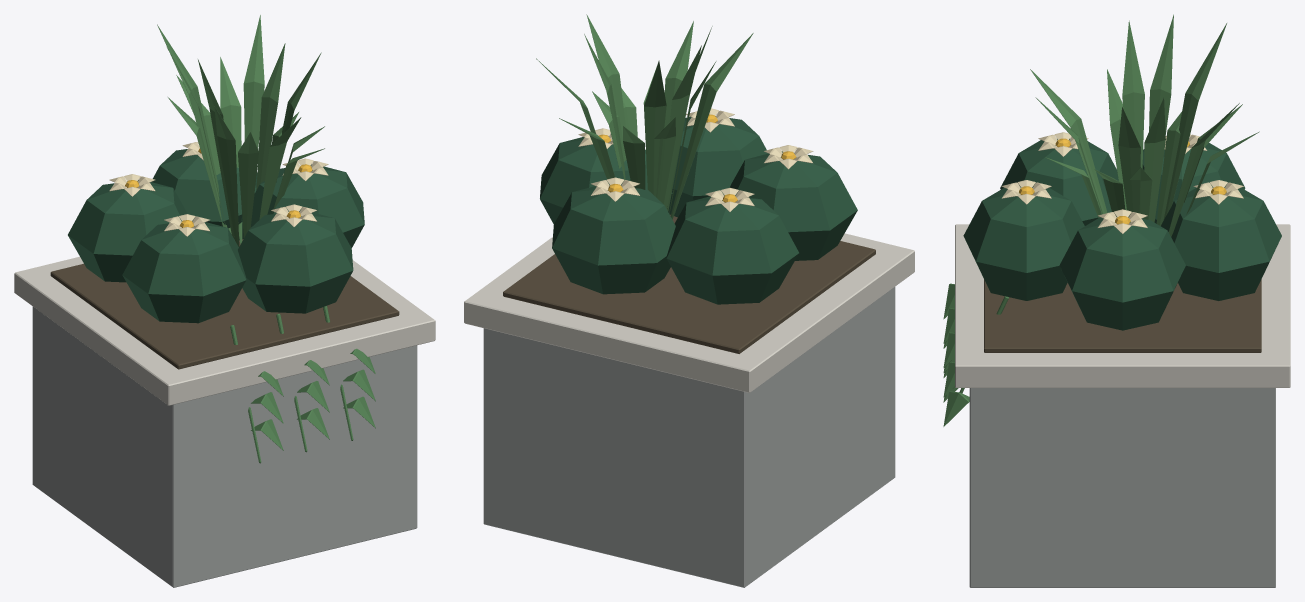
The model's file is b08_concrete_mixed_planter.glb.
3 renders of one model, left to right at view 1: azimuth 30°, elevation 25°; view 2: azimuth 150°, elevation 25°; view 3: azimuth 270°, elevation 25°, orthographic. The views are drawn at different scales.
Visible parts, largest first — view 1: b08_concrete_mixed_planter; view 2: b08_concrete_mixed_planter; view 3: b08_concrete_mixed_planter.
Part boxes in pixels (bbox=[...]): b08_concrete_mixed_planter: bbox=[14, 15, 435, 587]; b08_concrete_mixed_planter: bbox=[464, 14, 914, 587]; b08_concrete_mixed_planter: bbox=[943, 14, 1290, 587].
Size of the model in its own units: 0.945 by 1.5 by 0.9621.
